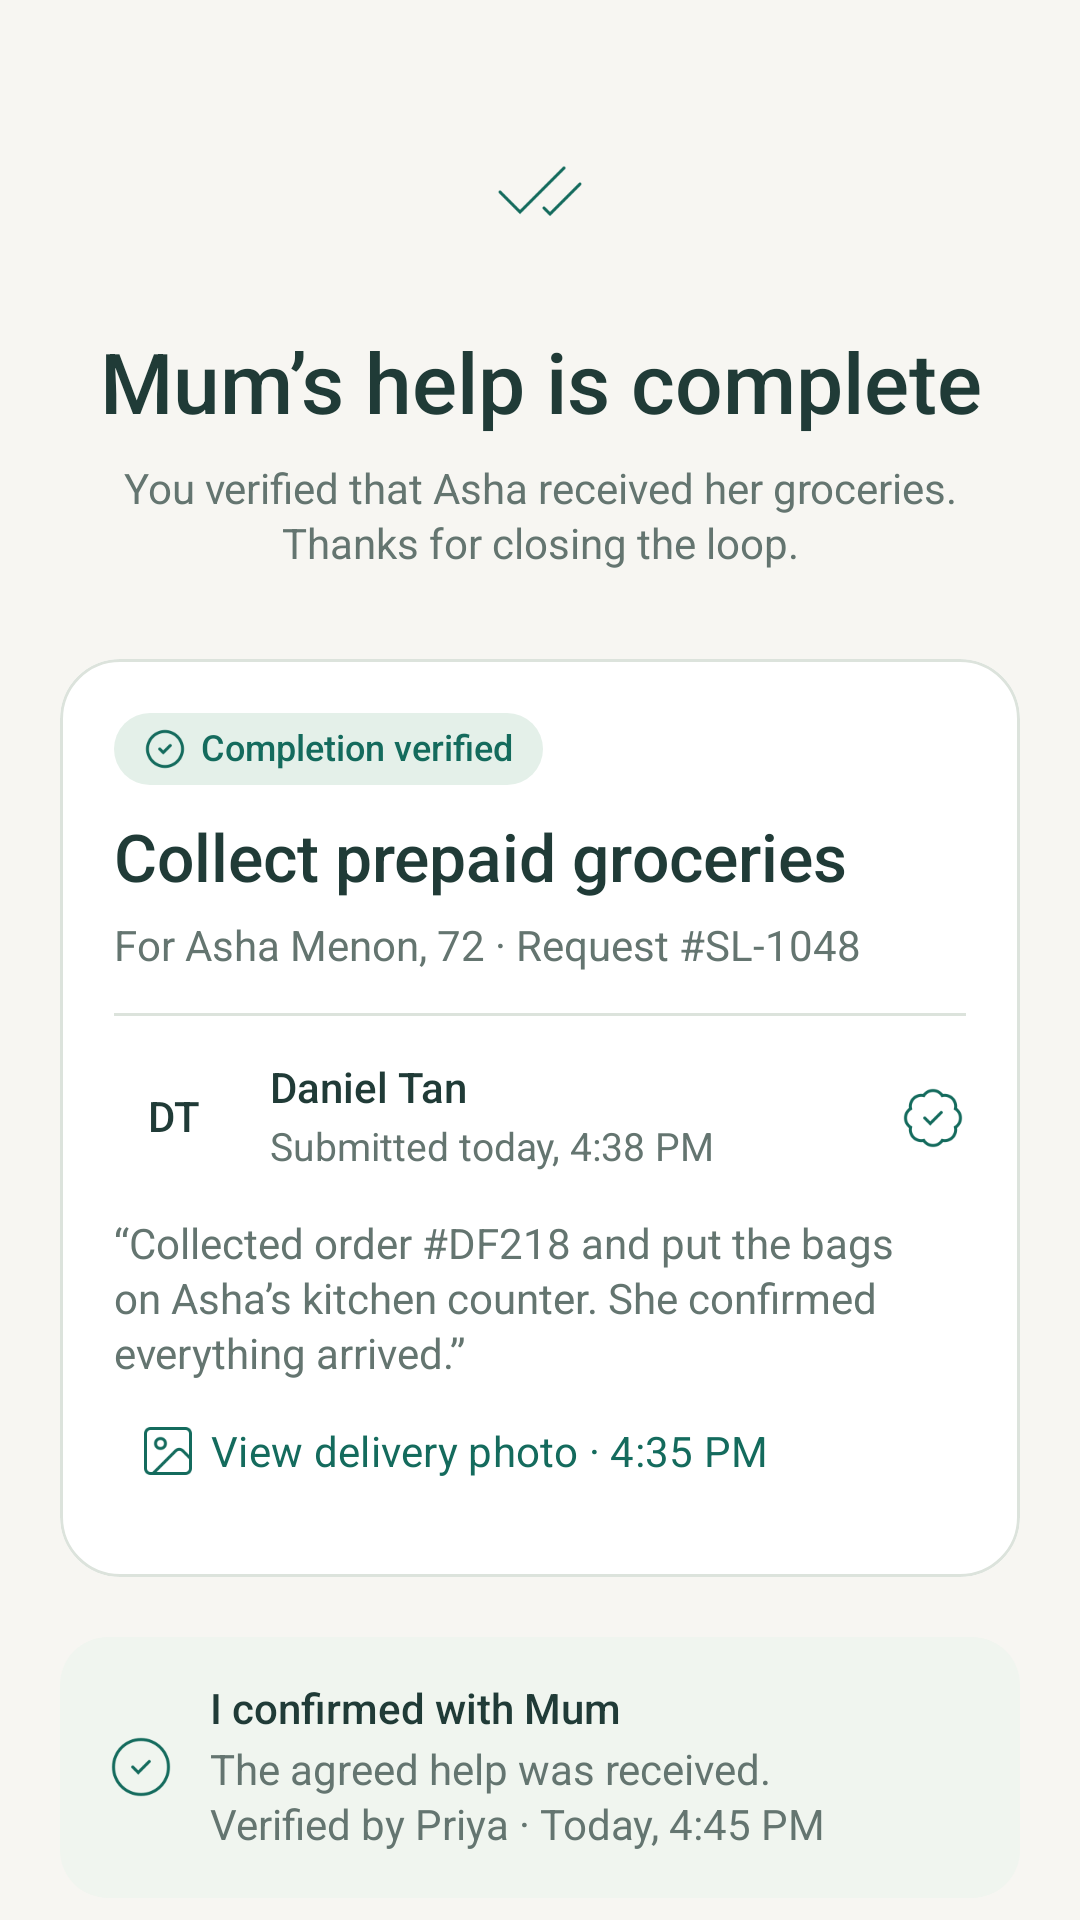

Point at icon controls on the screen. Image size 1080px×1920px, points as [x,y].
review badge check: [932,1118]
review check: [540,191]
review circle check: [165,749], [141,1767]
